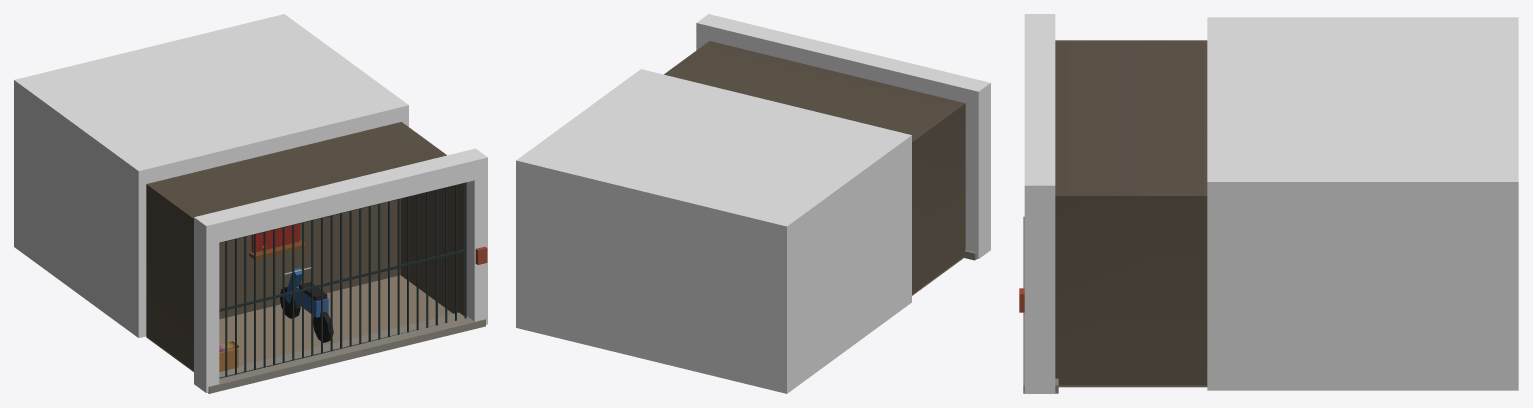
The model's file is tret_nha_o_60.glb.
3 renders of one model, left to right at view 1: azimuth 30°, elevation 25°; view 2: azimuth 150°, elevation 25°; view 3: azimuth 270°, elevation 25°, orthographic. The views are drawn at different scales.
Visible parts, largest first — view 1: tret_nha_o_60; view 2: tret_nha_o_60; view 3: tret_nha_o_60.
Boxes of the visible parts, x1=… form: tret_nha_o_60: x1=14, y1=14, x2=487, y2=393; tret_nha_o_60: x1=516, y1=14, x2=990, y2=393; tret_nha_o_60: x1=1019, y1=14, x2=1518, y2=393.
Size of the model in its own units: 6 by 3.42 by 7.38.
